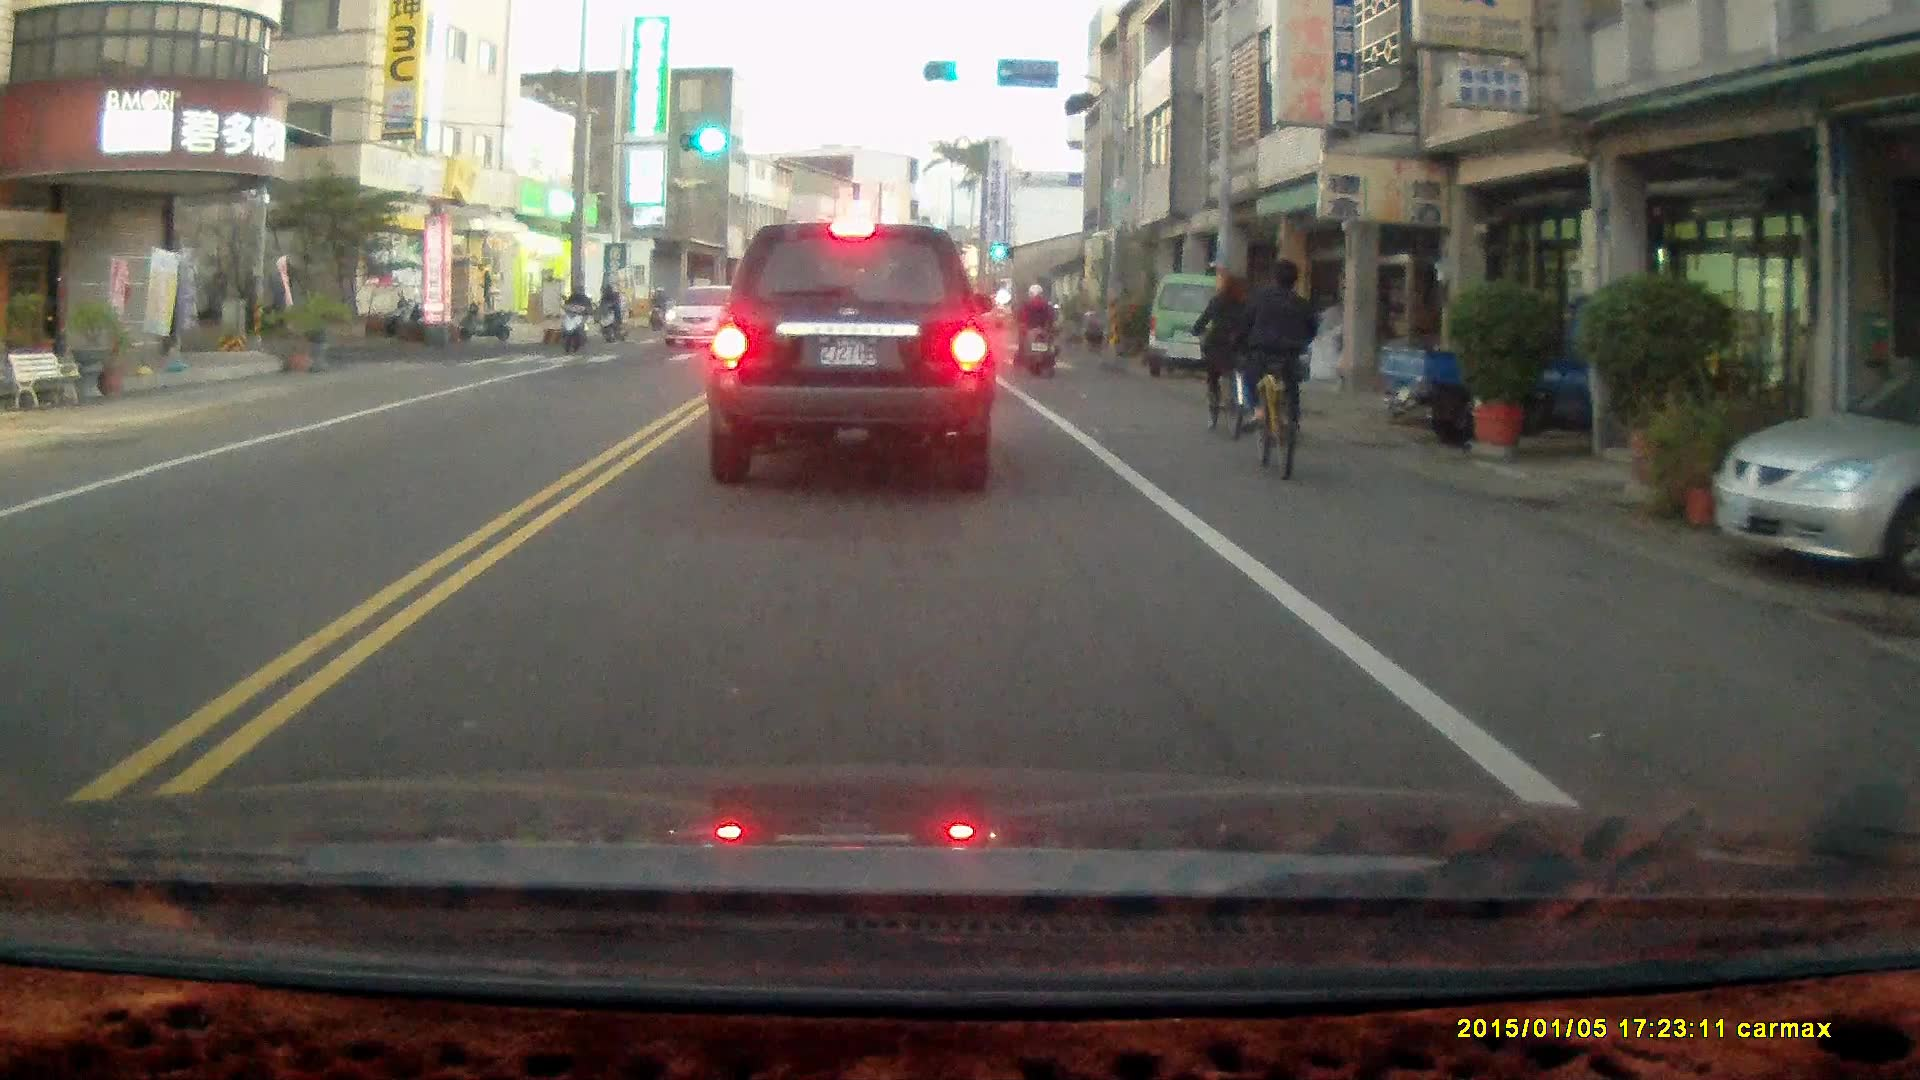pedestrian: (473, 261, 493, 311)
rider: (1234, 255, 1321, 481), (1189, 276, 1252, 442), (1005, 282, 1060, 379), (555, 278, 591, 356), (593, 281, 626, 344), (646, 284, 668, 330)
vehicle: (704, 221, 1000, 496), (1711, 348, 1920, 598), (1150, 277, 1251, 376), (656, 285, 757, 355)
